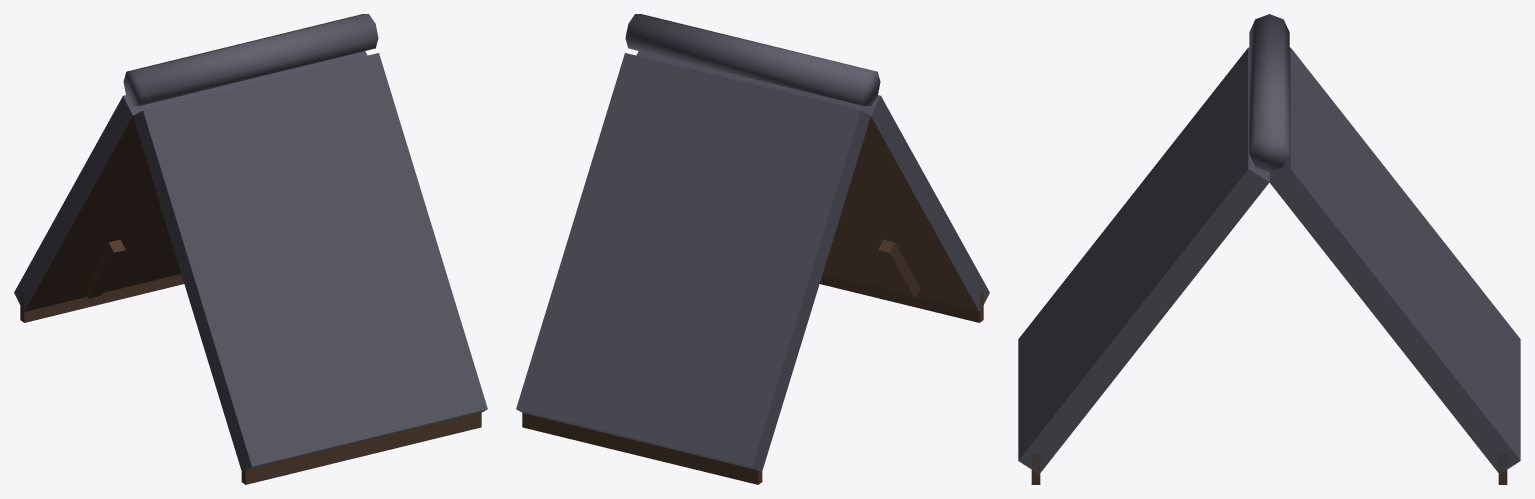
File: kit_church_slate_w1.glb
3 renders of one model, left to right at view 1: azimuth 30°, elevation 25°; view 2: azimuth 150°, elevation 25°; view 3: azimuth 270°, elevation 25°, orthographic. The views are drawn at different scales.
Visible parts, largest first — view 1: kit_church_slate_w1; view 2: kit_church_slate_w1; view 3: kit_church_slate_w1.
Boxes of the visible parts, bbox=[...] form: kit_church_slate_w1: bbox=[14, 14, 487, 484]; kit_church_slate_w1: bbox=[516, 14, 989, 484]; kit_church_slate_w1: bbox=[1018, 14, 1520, 484].
Size of the model in its own units: 1 by 1.34 by 1.75.
